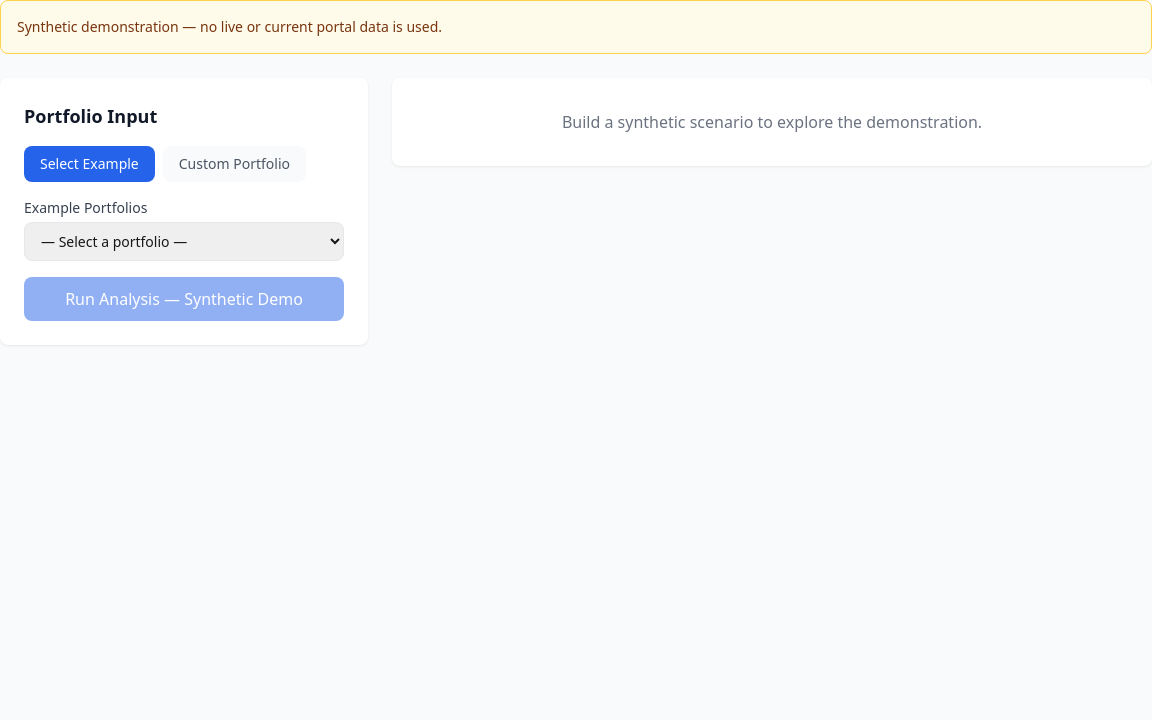
Scenario: removes a real zero-assessment report before showing a later run failure
Click the button "Custom Portfolio": (234, 164) x1=163 y1=146 x2=306 y2=182
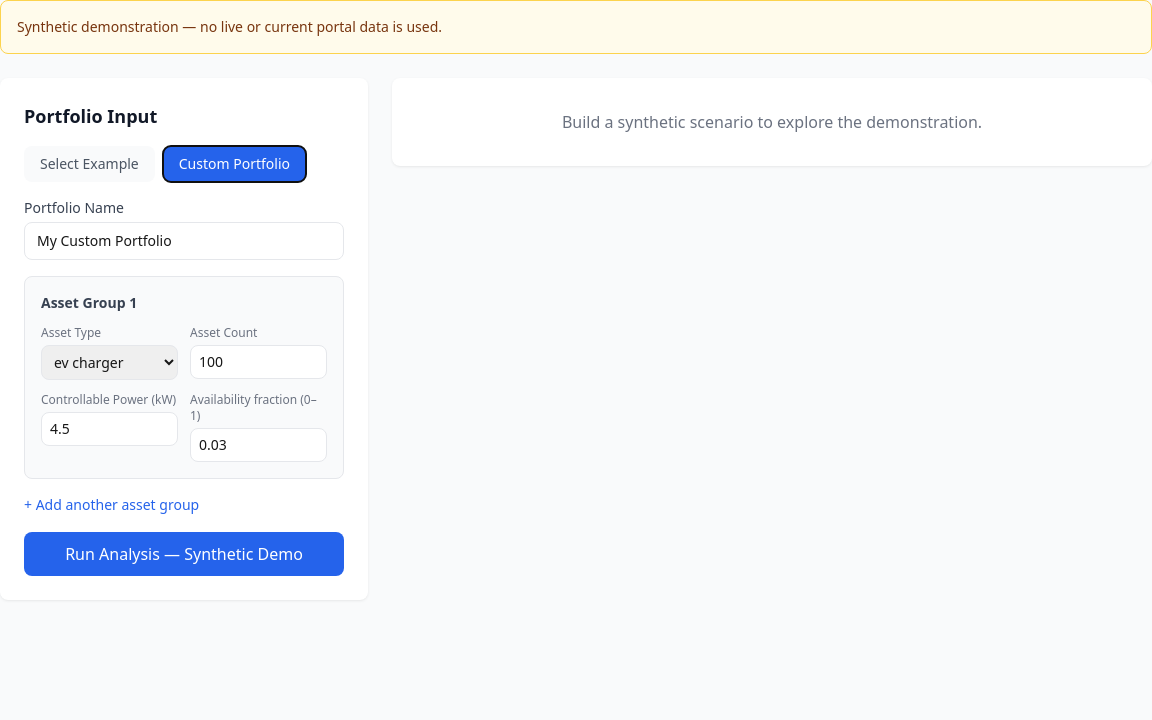
Click the button "Run Analysis — Synthetic Demo": (184, 554) x1=24 y1=532 x2=344 y2=576
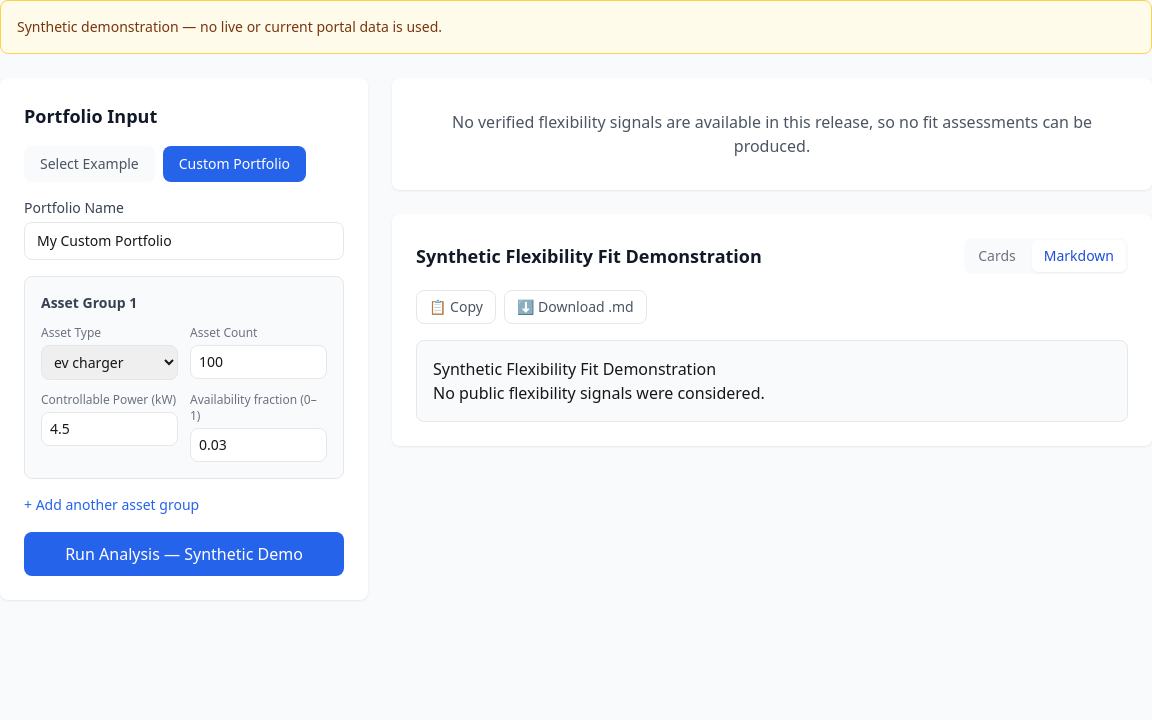
Now the text "No public flexibility signals were considered." is shown, box x1=433 y1=382 x2=765 y2=404
Now the button "⬇️ Download .md" is shown, box x1=504 y1=290 x2=647 y2=324
Click the button "Run Analysis — Synthetic Demo": (184, 554) x1=24 y1=532 x2=344 y2=576
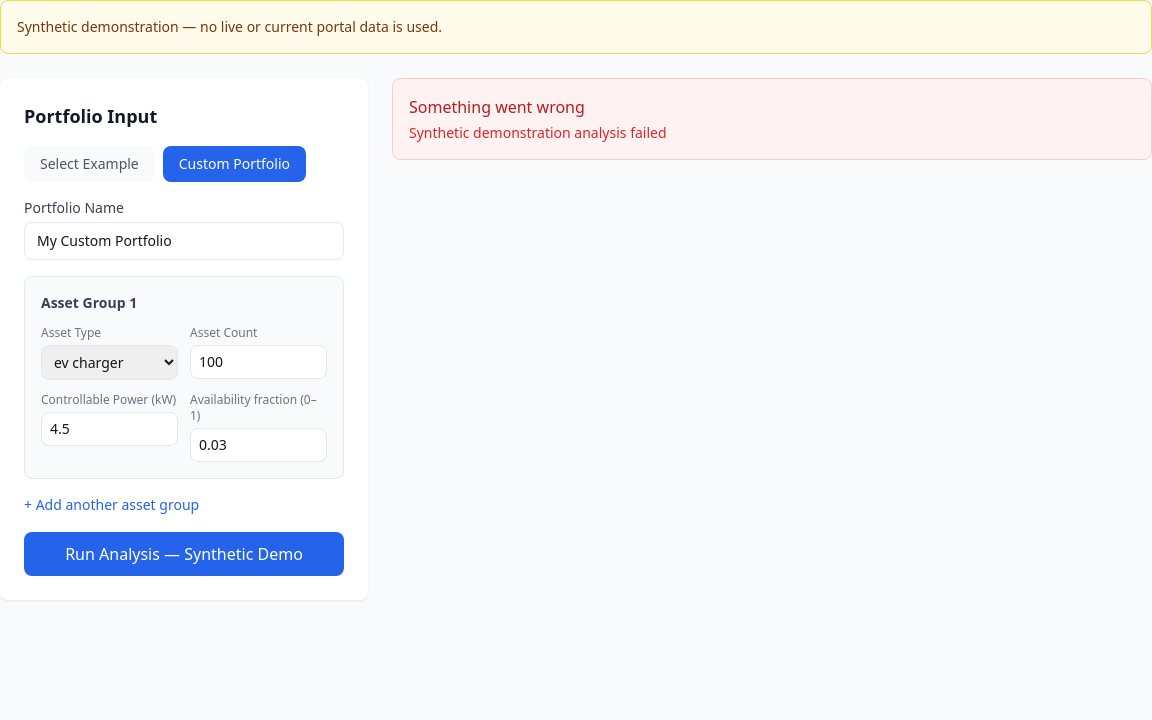
Now the text "Synthetic demonstration analysis failed" is shown, box x1=409 y1=123 x2=666 y2=142
Now the text "No public flexibility signals were considered" is gone
Now the heading "Synthetic Flexibility Fit Demonstration" is gone
